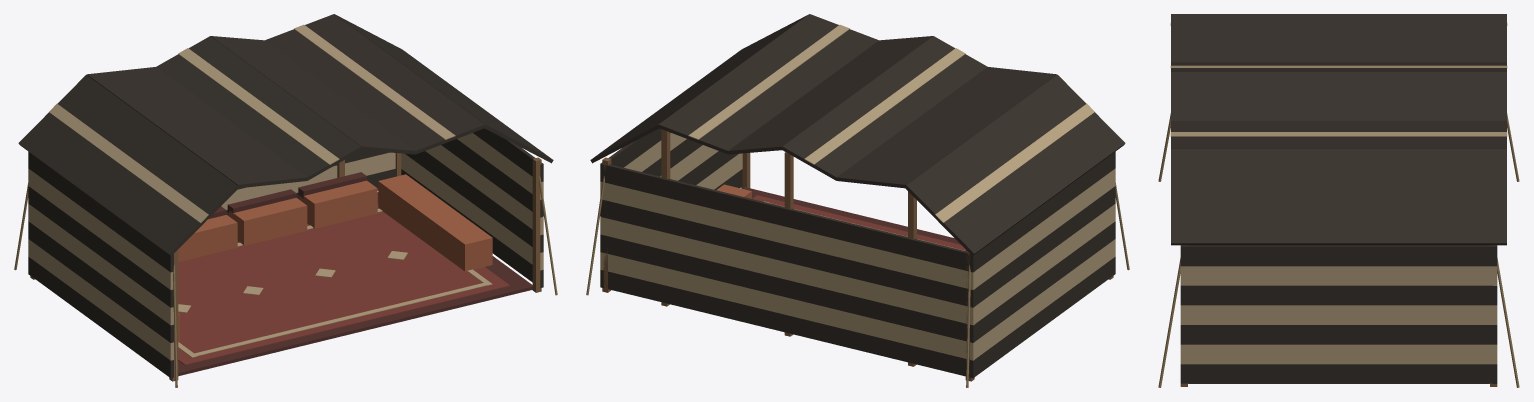
The model's file is tent.glb.
The picture shows the model from 3 angles, left to right: view 1: azimuth 30°, elevation 25°; view 2: azimuth 150°, elevation 25°; view 3: azimuth 270°, elevation 25°; orthographic projection. The views are drawn at different scales.
Visible parts, largest first — view 1: tent; view 2: tent; view 3: tent.
Boxes of the visible parts, <box> form: tent: <box>14,14,557,387</box>; tent: <box>586,14,1129,387</box>; tent: <box>1158,14,1519,387</box>.
Bounding box in the file's own units: 6.38 × 3.07 × 4.67.
